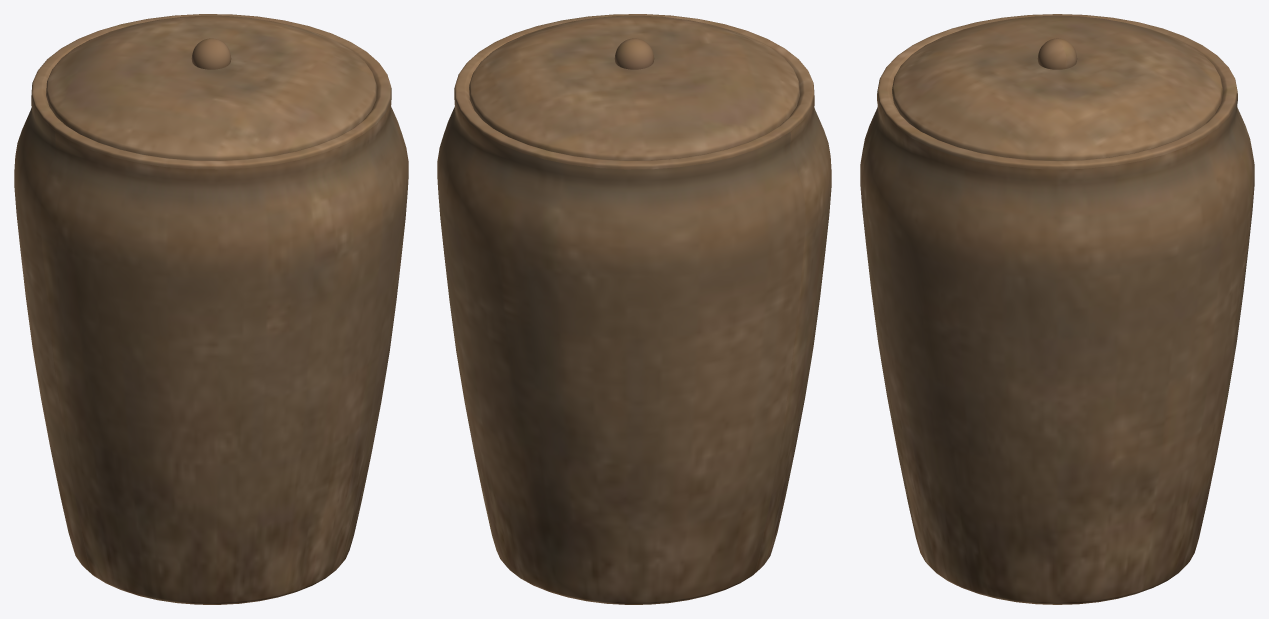
Rendered from SM_Pot_A_Complete.glb.
The picture shows the model from 3 angles, left to right: view 1: azimuth 30°, elevation 25°; view 2: azimuth 150°, elevation 25°; view 3: azimuth 270°, elevation 25°; orthographic projection.
Parts seen in each view (by area): view 1: SM_Pot_A_Complete; view 2: SM_Pot_A_Complete; view 3: SM_Pot_A_Complete.
Part boxes in pixels (bbox=[...]): SM_Pot_A_Complete: bbox=[14, 14, 408, 604]; SM_Pot_A_Complete: bbox=[437, 14, 831, 604]; SM_Pot_A_Complete: bbox=[860, 14, 1254, 604].
Bounding box in the file's own units: 0.3373 × 0.4815 × 0.3373.
1 material, 1 textured.
